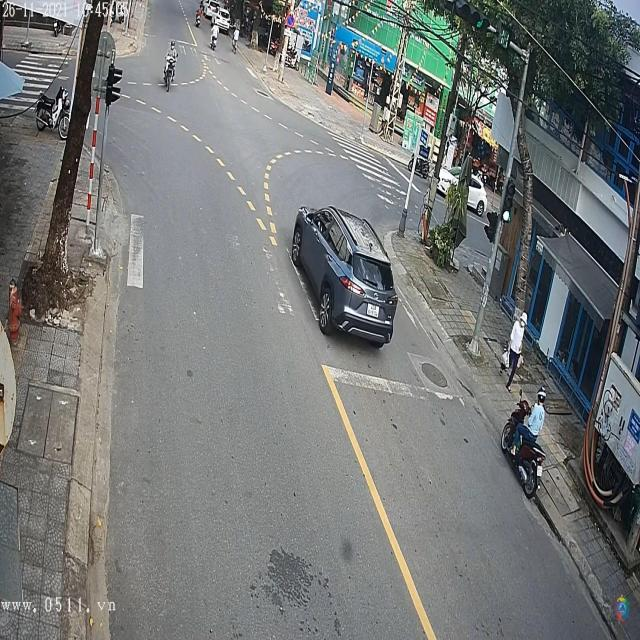car: (288, 208, 398, 348)
motorcycle: (502, 393, 543, 498), (162, 52, 177, 91)
